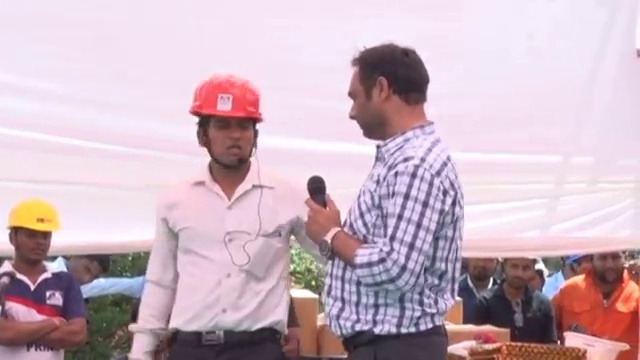helmet: (185, 78, 268, 122), (1, 201, 62, 239), (563, 329, 630, 360)
helmet_off: (348, 44, 434, 143), (501, 256, 543, 297), (63, 255, 106, 292), (591, 251, 628, 286), (467, 254, 499, 290)
helmet_on: (184, 78, 270, 182), (0, 191, 62, 262)
person: (119, 72, 309, 360), (304, 34, 463, 360), (0, 188, 85, 359), (558, 250, 640, 352), (472, 258, 556, 345), (457, 252, 502, 323)
